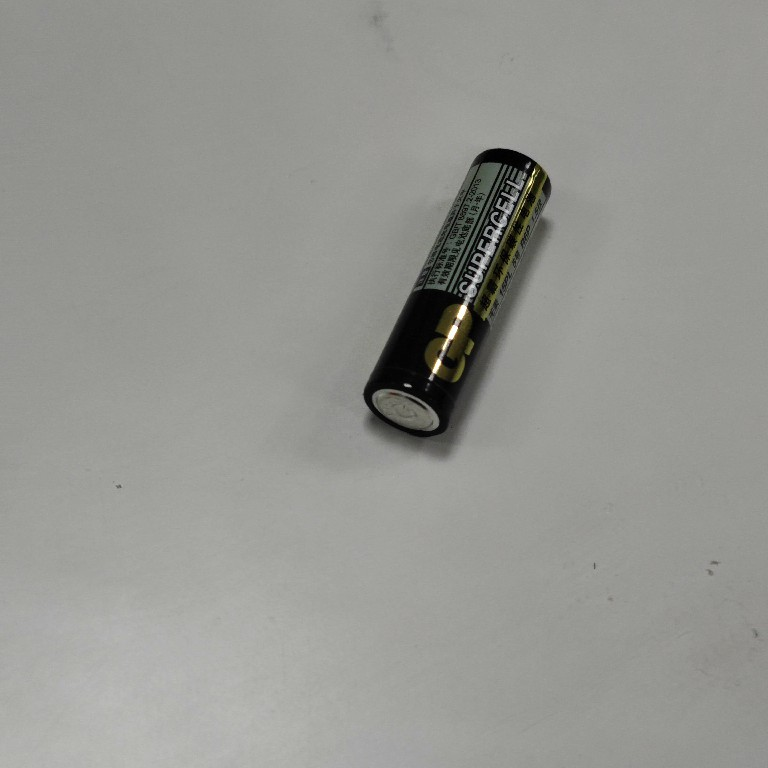charge: (355, 145, 553, 441)
